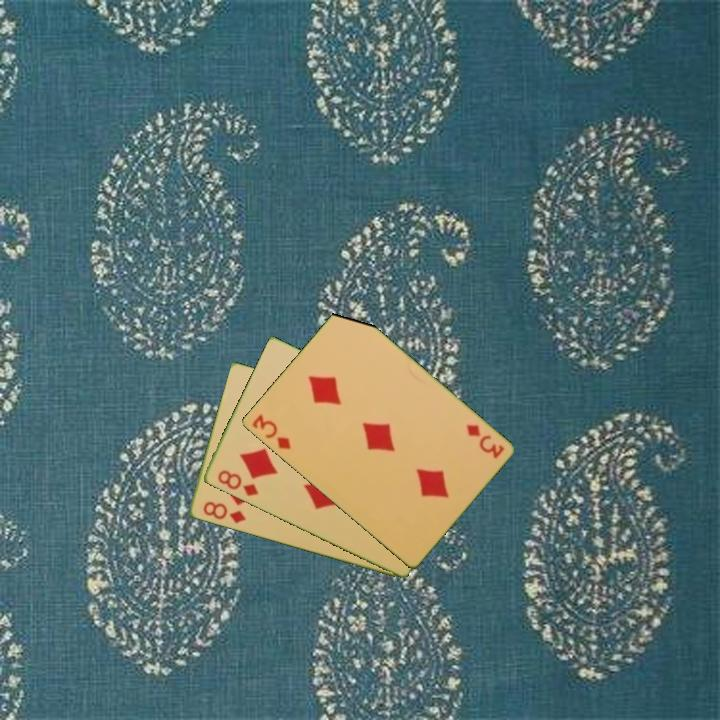3d: (248, 411, 294, 452), (462, 421, 507, 462)
8d: (214, 466, 261, 499), (199, 498, 249, 527)
